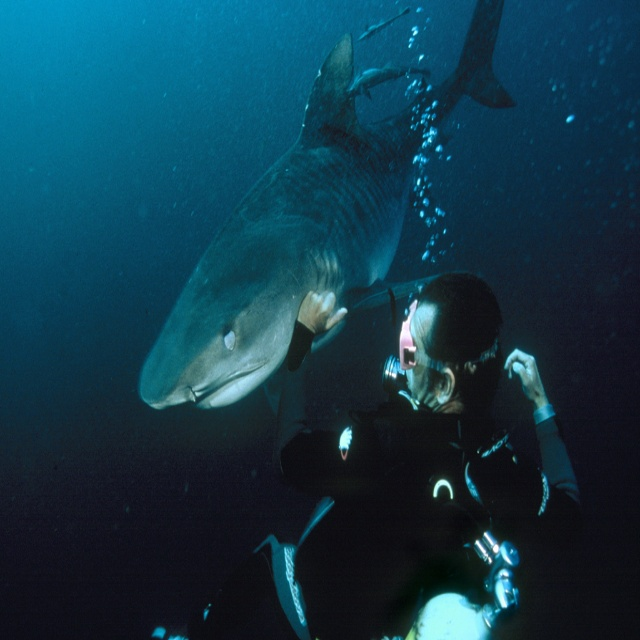Shark: (139, 0, 515, 413)
